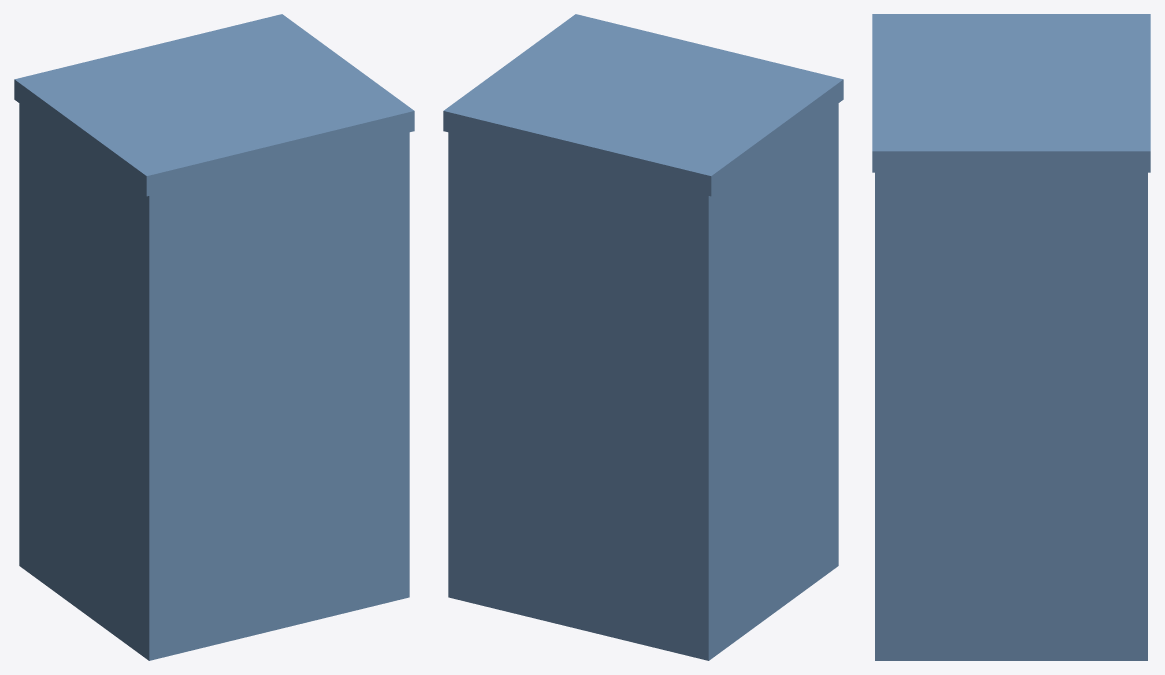
The model's file is com_block.glb.
3 views of the same model, side by side, from view 1: azimuth 30°, elevation 25°; view 2: azimuth 150°, elevation 25°; view 3: azimuth 270°, elevation 25° (orthographic). The views are drawn at different scales.
Visible parts, largest first — view 1: com_block; view 2: com_block; view 3: com_block.
Boxes of the visible parts, x1=… form: com_block: x1=14, y1=14, x2=414, y2=660; com_block: x1=443, y1=14, x2=843, y2=660; com_block: x1=872, y1=14, x2=1150, y2=660.
Bounding box in the file's own units: 0.6912 × 1.2 × 0.5916.
